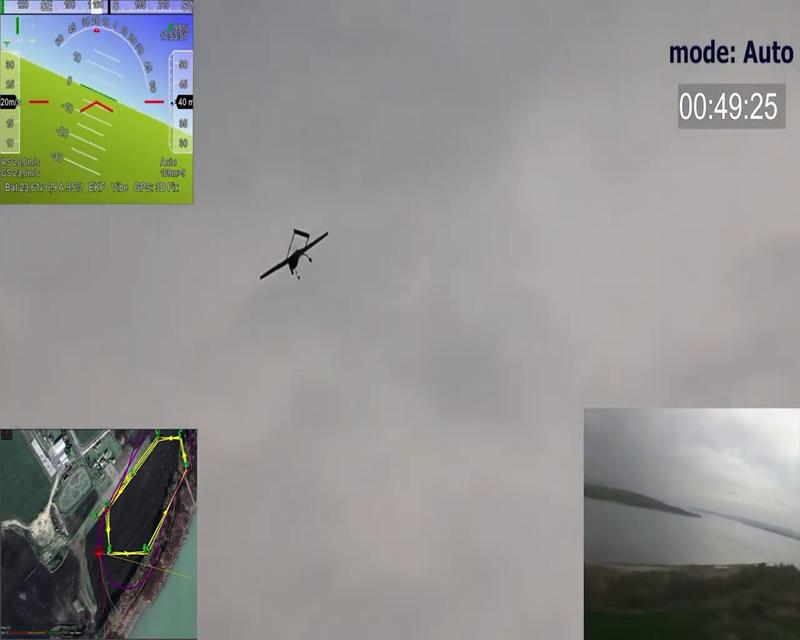UAV: (261, 228, 329, 280)
